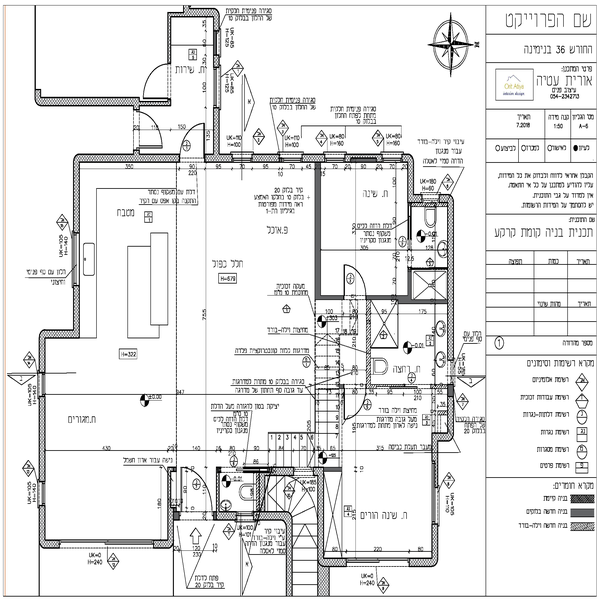door: (173, 465, 217, 519), (176, 123, 210, 168), (131, 110, 167, 151), (136, 63, 177, 97), (342, 379, 377, 418), (341, 263, 367, 300)
room: (69, 149, 325, 345), (33, 334, 177, 552), (320, 379, 454, 569), (314, 153, 460, 311)
wall: (445, 187, 458, 360), (314, 165, 327, 302), (317, 463, 330, 570), (79, 150, 177, 163), (284, 507, 297, 599), (36, 397, 49, 485), (34, 97, 146, 107), (208, 114, 227, 165), (37, 504, 55, 554), (404, 154, 419, 209), (442, 402, 462, 442), (74, 156, 84, 228), (427, 438, 442, 485), (406, 554, 439, 575), (70, 283, 82, 338), (267, 462, 297, 482), (371, 291, 413, 304), (165, 509, 177, 550), (256, 511, 291, 525), (303, 153, 327, 167), (44, 332, 74, 341), (254, 153, 277, 164)
window: (59, 538, 157, 552), (347, 551, 407, 573), (429, 466, 449, 518), (67, 231, 85, 283), (277, 148, 302, 170), (33, 372, 51, 397), (382, 145, 402, 166), (230, 150, 254, 167), (328, 149, 343, 175), (34, 483, 51, 503)
